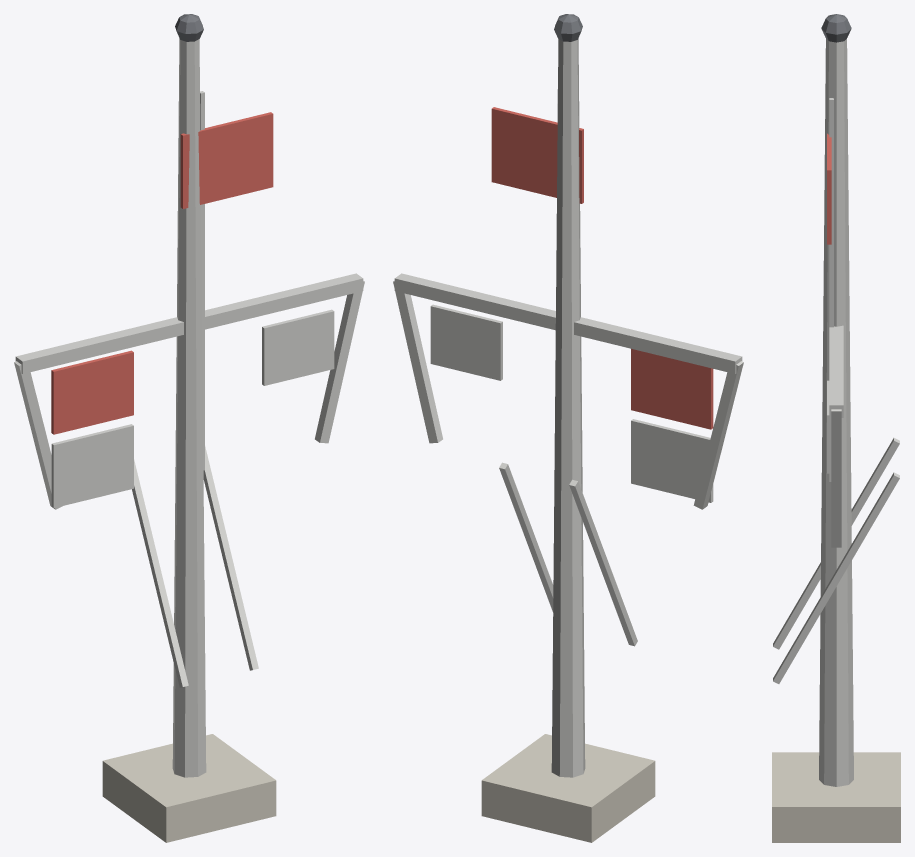
The model's file is lighthouse-and-rocky-coast-signal-mast-with-flags-c852fc5e__36631.glb.
The picture shows the model from 3 angles, left to right: view 1: azimuth 30°, elevation 25°; view 2: azimuth 150°, elevation 25°; view 3: azimuth 270°, elevation 25°; orthographic projection.
Parts seen in each view (by area): view 1: signal-mast-with-flags; view 2: signal-mast-with-flags; view 3: signal-mast-with-flags.
Part boxes in pixels (x1,y1,x2,y2): signal-mast-with-flags: (14, 14, 364, 842); signal-mast-with-flags: (393, 14, 743, 842); signal-mast-with-flags: (772, 14, 900, 842).
Size of the model in its own units: 3.45 by 7.55 by 1.1.
